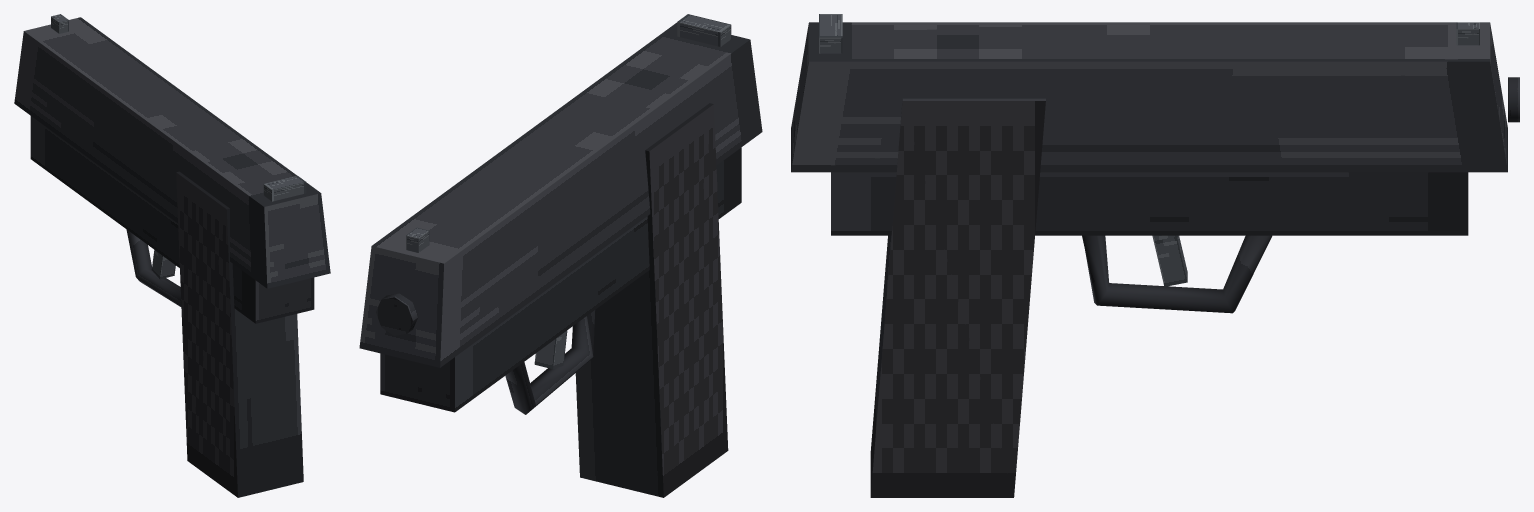
Rendered from INV_Handgun.glb.
The picture shows the model from 3 angles, left to right: view 1: azimuth 30°, elevation 25°; view 2: azimuth 150°, elevation 25°; view 3: azimuth 270°, elevation 25°; orthographic projection. The views are drawn at different scales.
Parts seen in each view (by area): view 1: INV_Handgun_Mesh; view 2: INV_Handgun_Mesh; view 3: INV_Handgun_Mesh.
Part boxes in pixels (<box>): INV_Handgun_Mesh: <box>14,14,330,497</box>; INV_Handgun_Mesh: <box>359,14,762,497</box>; INV_Handgun_Mesh: <box>791,14,1519,497</box>.
Size of what is drawn, in the model's own units: 0.027 by 0.1245 by 0.183.
Materials: 1 (1 with a texture image).
